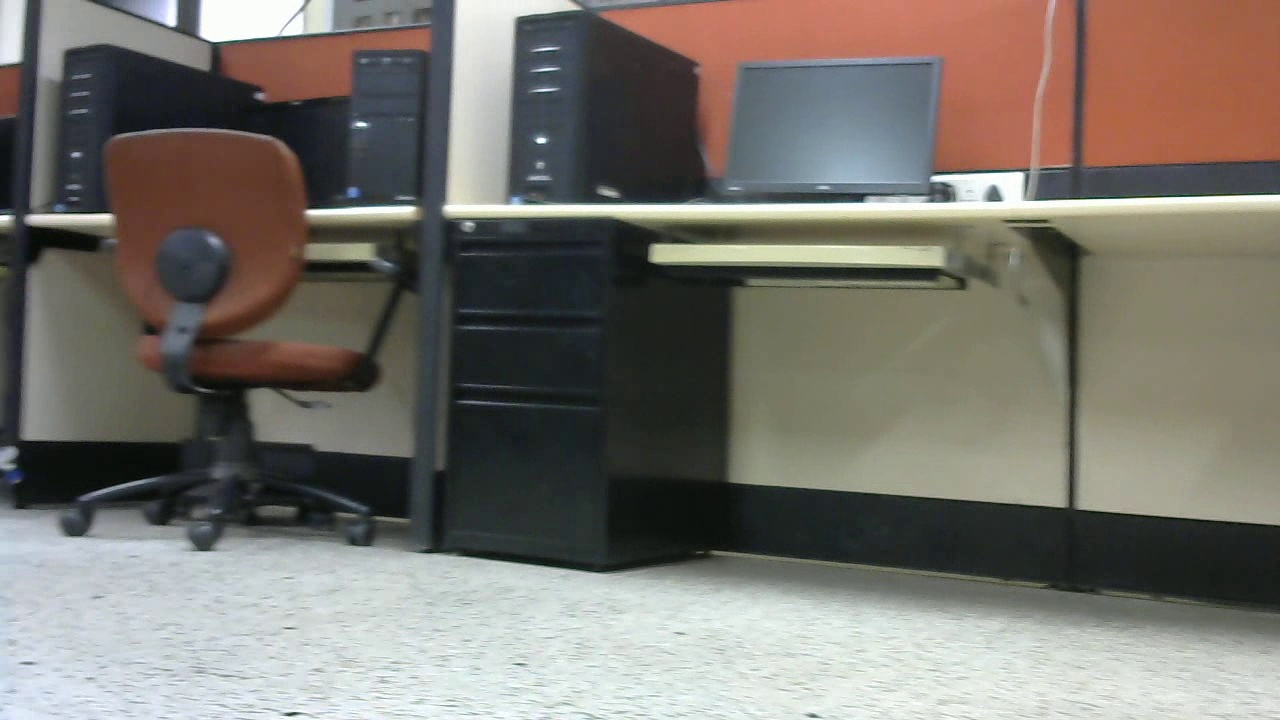chair: (69, 128, 414, 550)
